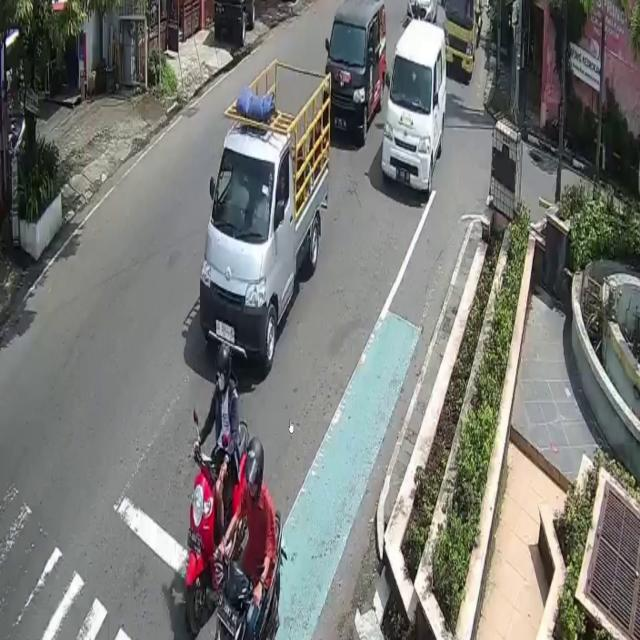car: (200, 125, 328, 366), (380, 18, 448, 195), (326, 0, 385, 143)
motorbike: (185, 420, 248, 630), (216, 507, 282, 640)
truck: (441, 0, 478, 80)
